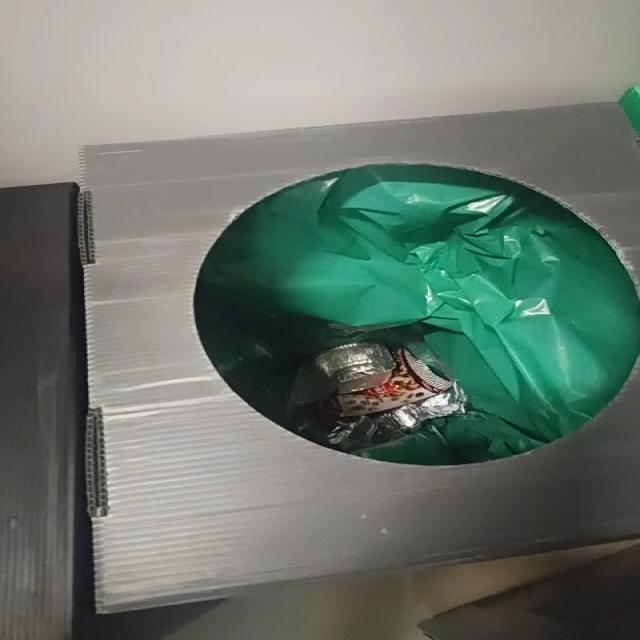Bin: (80, 103, 639, 614)
Metal: (316, 344, 396, 394)
